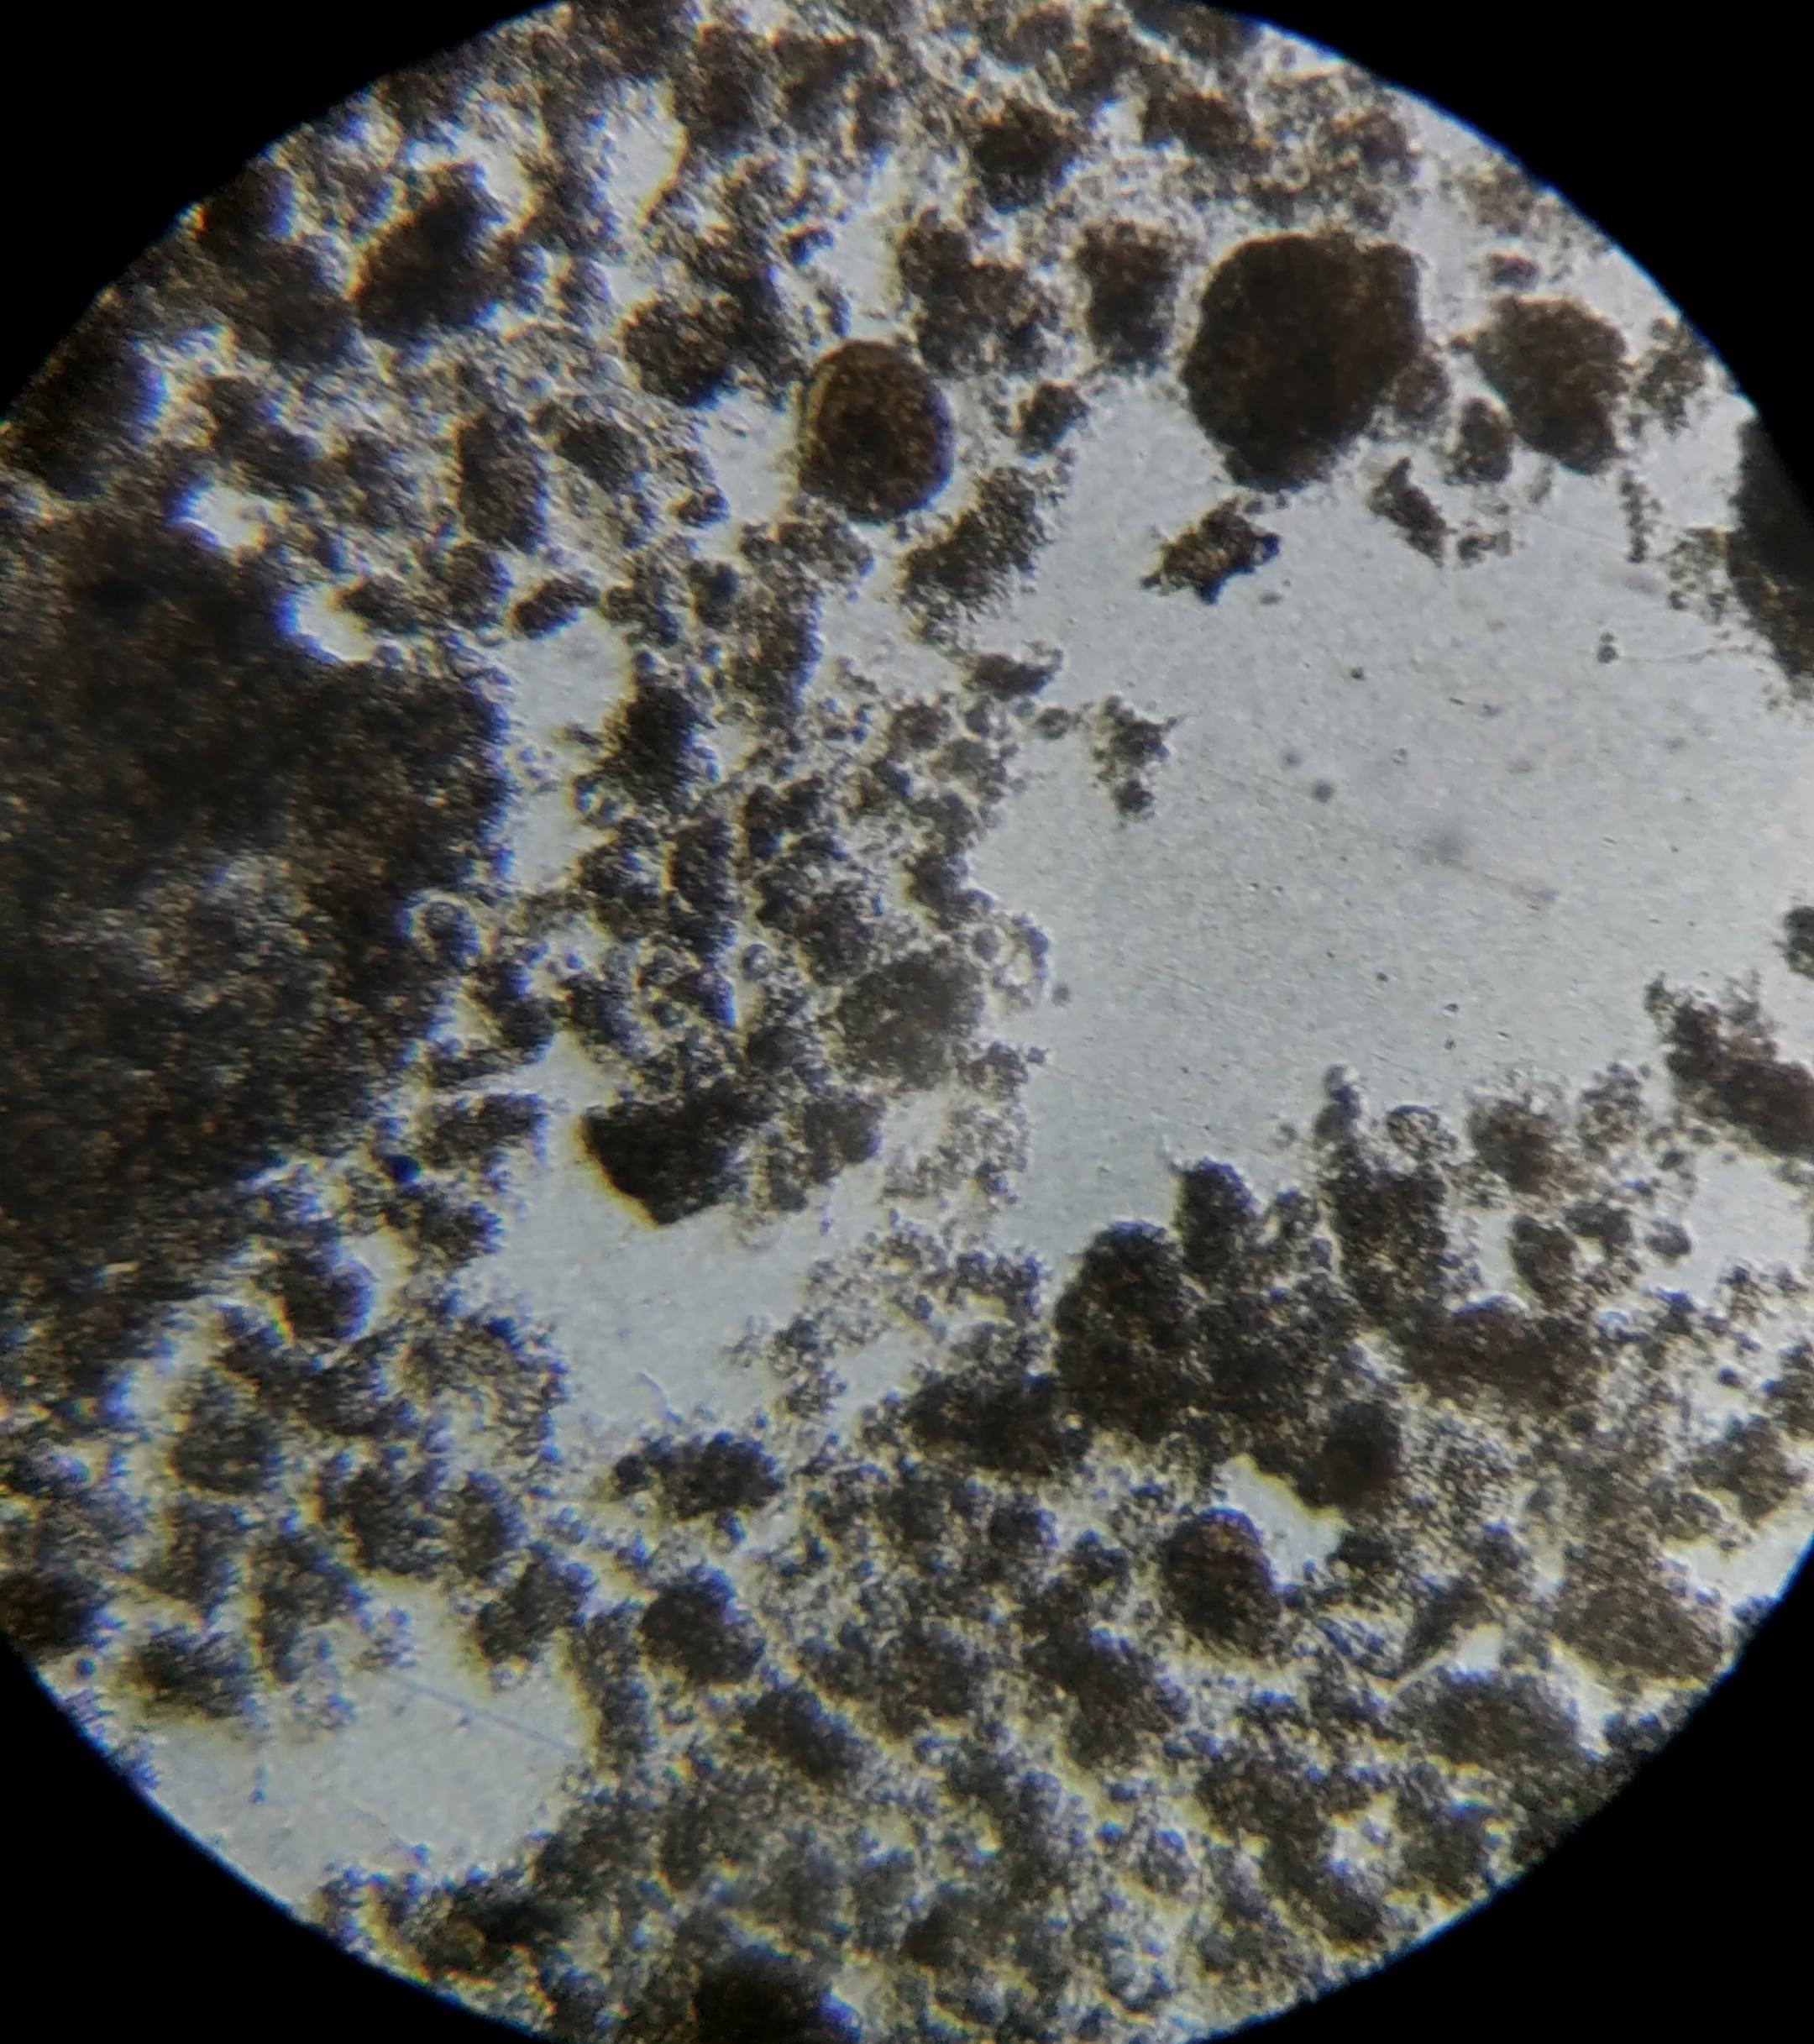Arcella: (800, 343, 954, 524)
